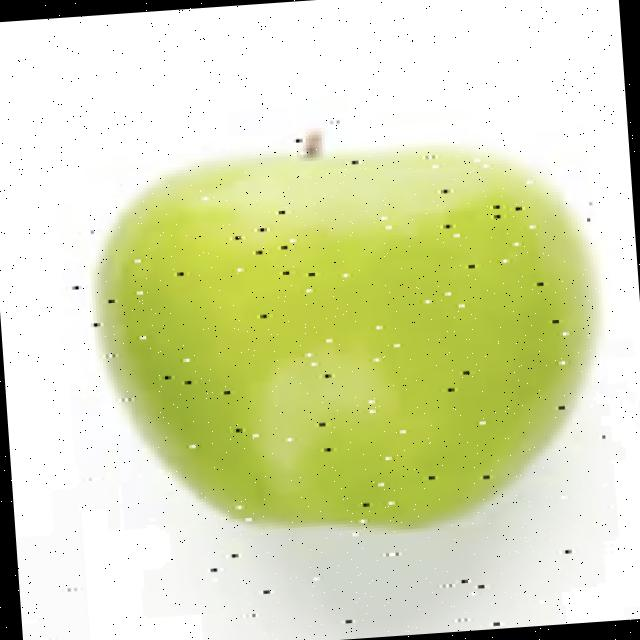apple: (86, 116, 640, 627)
